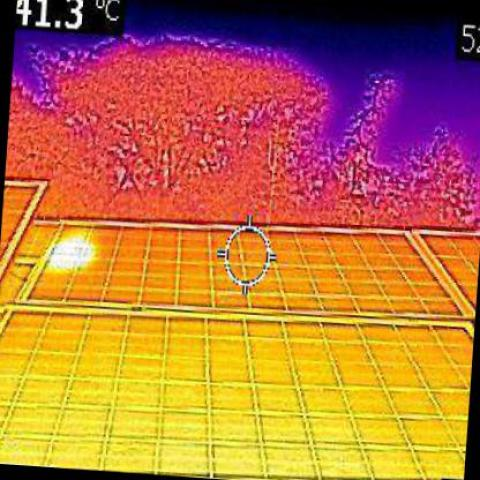fault: (48, 236, 90, 264)
